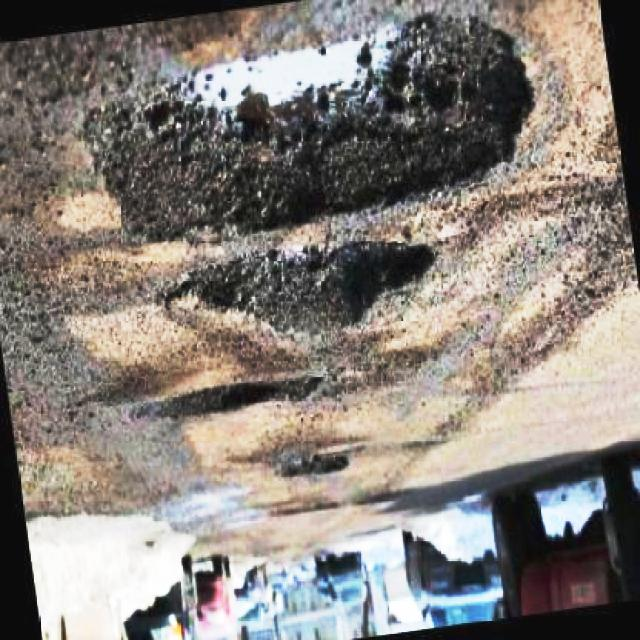pothole: (66, 8, 540, 252), (162, 242, 438, 340), (119, 366, 318, 423), (277, 449, 349, 474)
